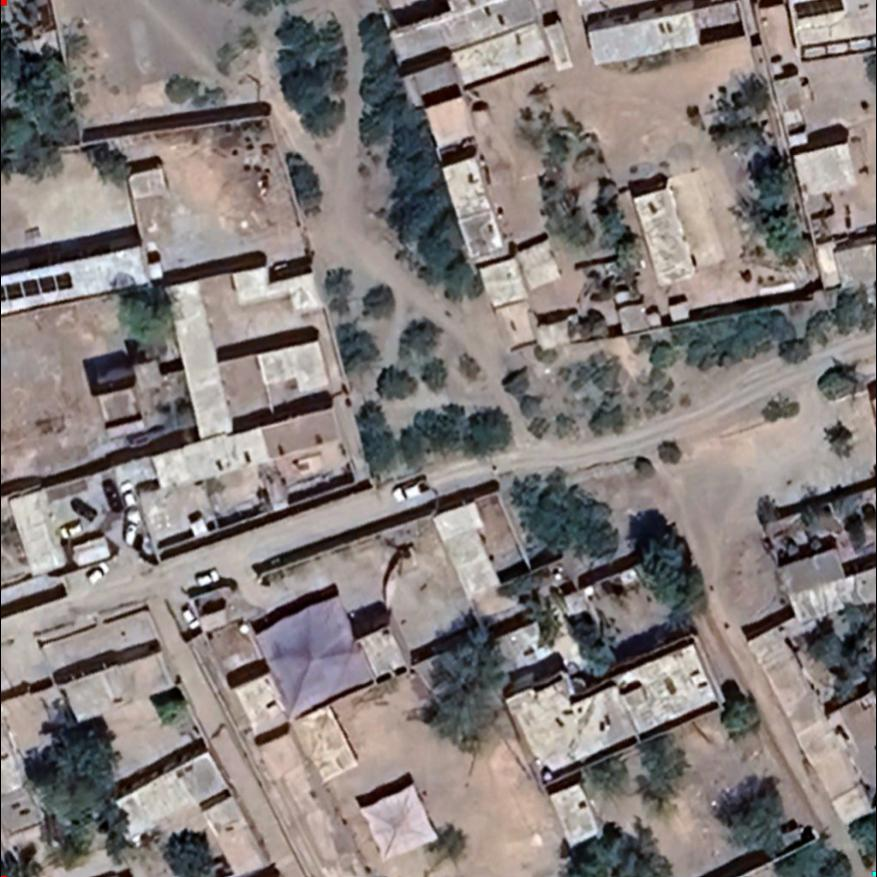Solarpanel: (1, 265, 81, 307)
